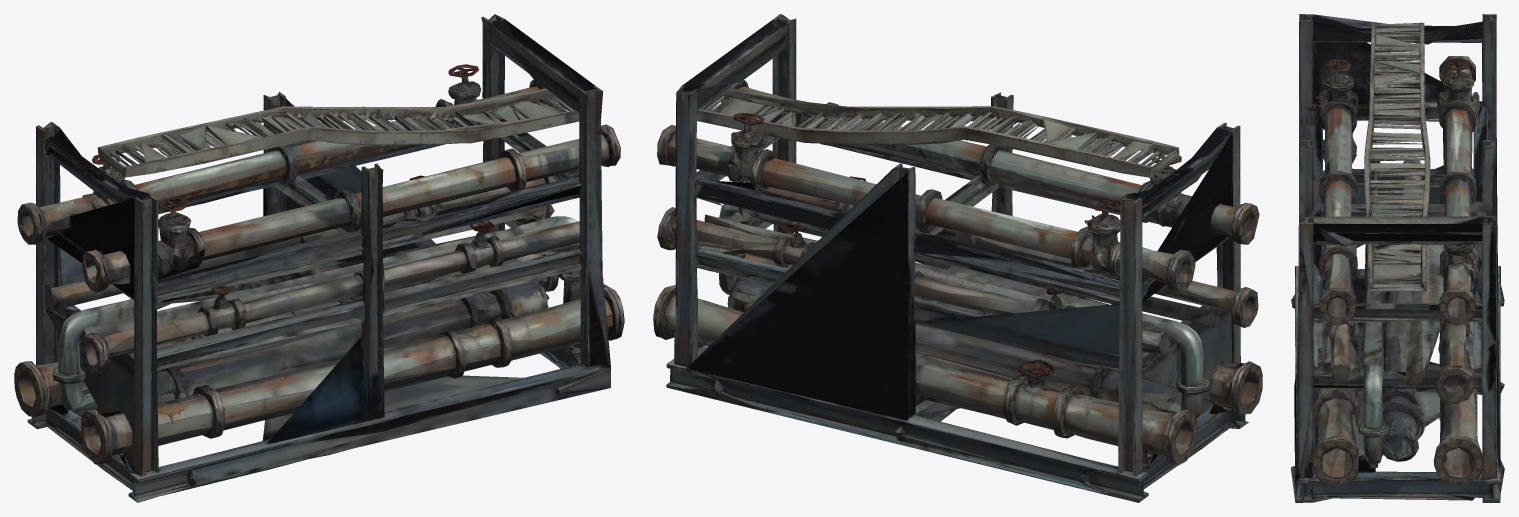
Rendered from pipe_rack.glb.
3 views of the same model, side by side, from view 1: azimuth 30°, elevation 25°; view 2: azimuth 150°, elevation 25°; view 3: azimuth 270°, elevation 25° (orthographic). The views are drawn at different scales.
Size of the model in its own units: 1.9 by 1.04 by 0.7246.
Materials: 1 (1 with a texture image).
